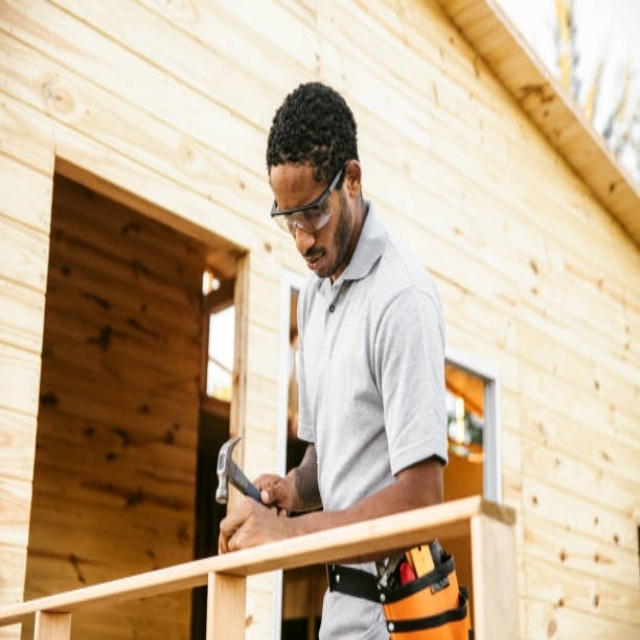Gafas: (271, 163, 348, 236)
Sin_guantes: (216, 490, 277, 555)
Sin_mascara: (298, 245, 335, 279)
